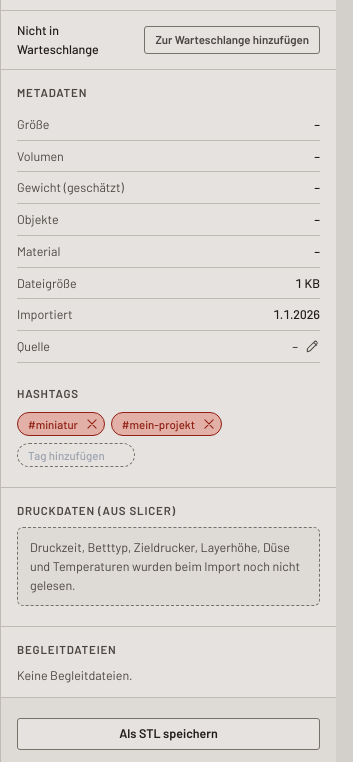
keeps the tag menu usable after delayed suggestions and a session refresh
Later steps or results of the test are not shown.
(page scrolled)
Click the button named "miniatur entfernen, Menü" at (92, 424), box [84,416,100,432]
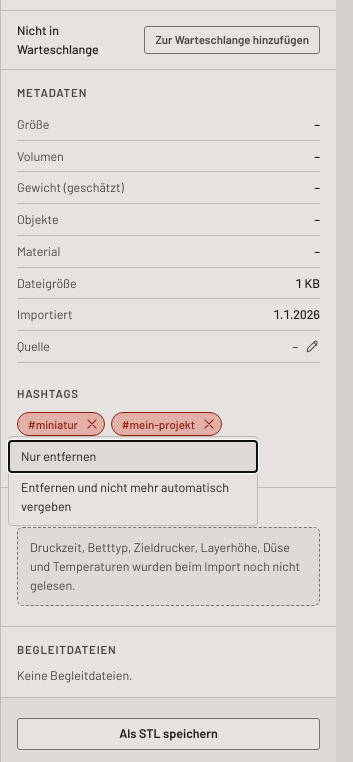
Check: the menu item "Entfernen und nicht mehr automatisch vergeben" is shown, box [9,472,257,521]
